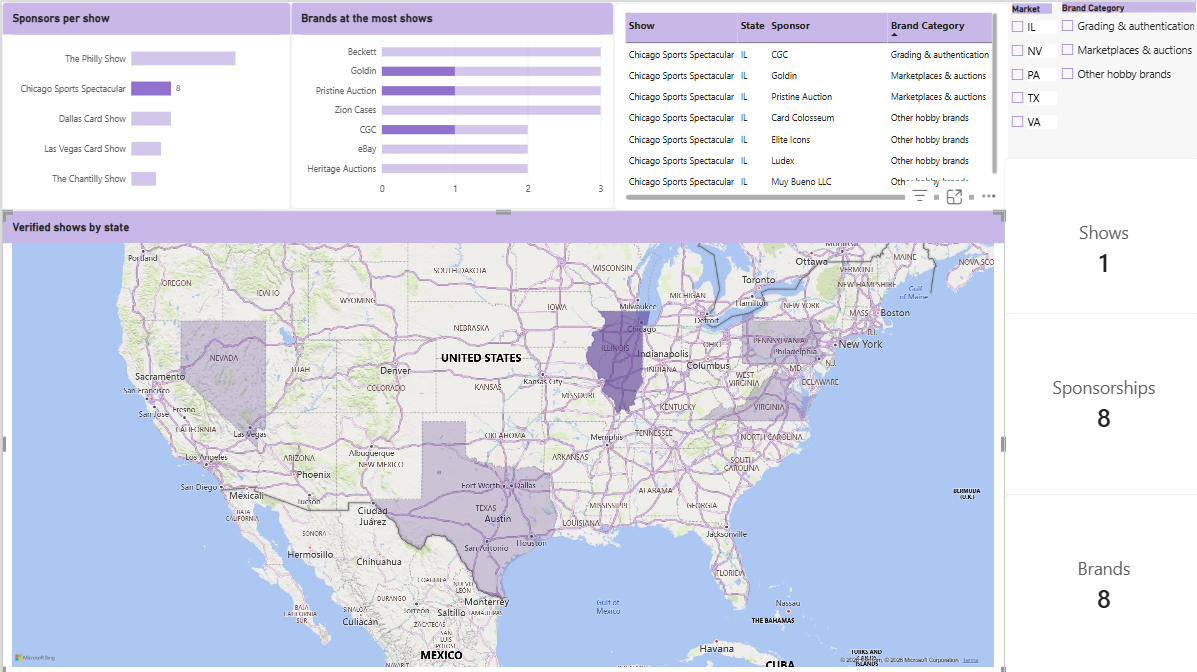

The page's visual inventory and layout, read from the dashboard file:
{"tool":"powerbi","page":{"name":"Page 1","canvas":[1920,1080],"ordinal":0},"visuals":[{"type":"clusteredBarChart","title":"Sponsors per show","fields":{"Category":["Sponsors.Show"],"Y":["Sponsors.Total Sponsors"]},"box":[0,0,462.3,332.1],"z":0},{"type":"clusteredBarChart","title":"Brands at the most shows","fields":{"Category":["Sponsors.Sponsor"],"Y":["Sponsors.Total Shows"]},"box":[462.3,0,517,331],"z":1},{"type":"filledMap","title":"Verified shows by state","fields":{"Category":["Sponsors.State"]},"box":[0,334,1603.8,747.2],"z":2},{"type":"tableEx","fields":{"Values":["Sponsors.Show","Sponsors.State","Sponsors.Sponsor","Sponsors.Brand_category"]},"box":[979.2,1.9,630.2,332.1],"z":3},{"type":"slicer","fields":{"Values":["Sponsors.State"]},"box":[1608,1.7,80.3,220.2],"z":4},{"type":"slicer","fields":{"Values":["Sponsors.Brand_category"]},"box":[1688.1,0,232.1,167],"z":5},{"type":"cardVisual","fields":{"Data":["Sponsors.Total Shows"]},"box":[1603.8,249.1,317,290.6],"z":6},{"type":"cardVisual","fields":{"Data":["Sponsors.Total Sponsors"]},"box":[1603.8,788.7,317,290.6],"z":7},{"type":"cardVisual","fields":{"Data":["Sponsors.Total Sponsorships"]},"box":[1603.8,498.1,317,290.6],"z":8}]}

Visuals, with their boxes in screenshot pixels (x1, y1, x2, y2), scaled from the page's 1920x1080 canvas onto the 1197x672 screenshot:
"Sponsors per show" clusteredBarChart: (x1=0, y1=0, x2=288, y2=207)
"Brands at the most shows" clusteredBarChart: (x1=288, y1=0, x2=611, y2=206)
"Verified shows by state" filledMap: (x1=0, y1=208, x2=1000, y2=671)
tableEx - Sponsors.Show x Sponsors.State: (x1=610, y1=1, x2=1003, y2=208)
slicer - Sponsors.State: (x1=1002, y1=1, x2=1053, y2=138)
slicer - Sponsors.Brand_category: (x1=1052, y1=0, x2=1196, y2=104)
cardVisual - Sponsors.Total Shows: (x1=1000, y1=155, x2=1196, y2=336)
cardVisual - Sponsors.Total Sponsors: (x1=1000, y1=491, x2=1196, y2=671)
cardVisual - Sponsors.Total Sponsorships: (x1=1000, y1=310, x2=1196, y2=491)
